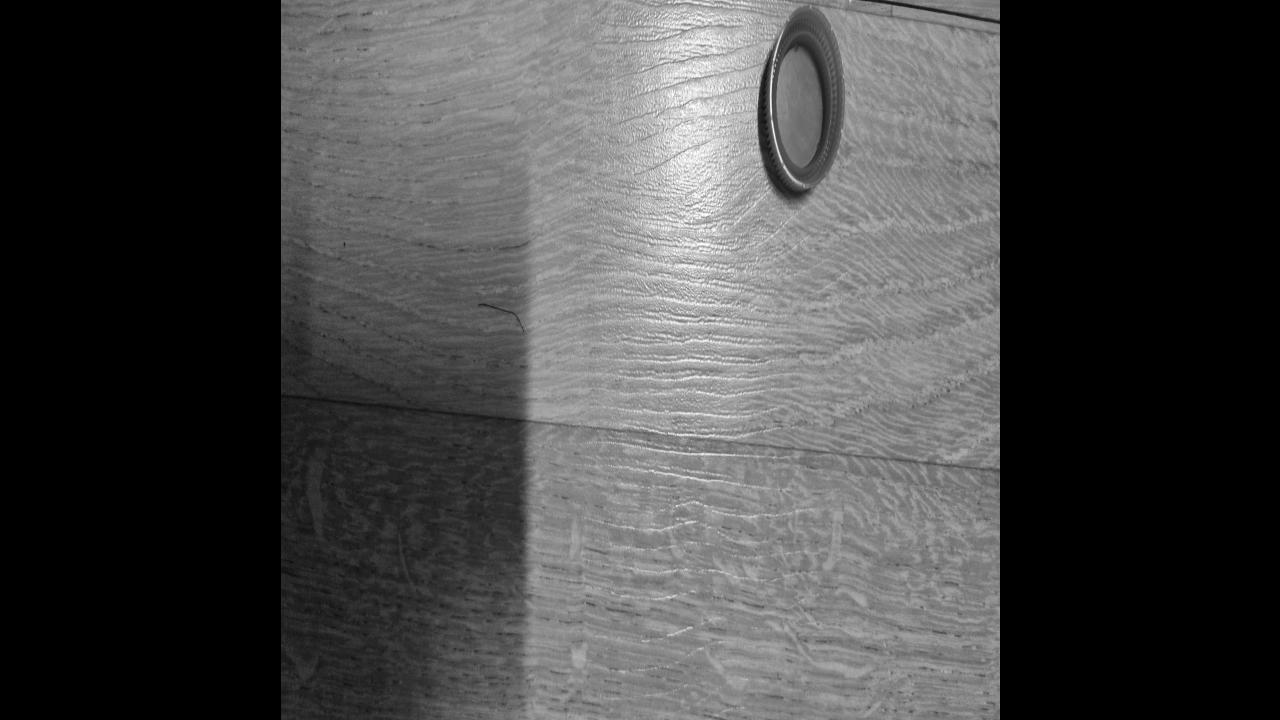bottle_cap: (768, 19, 842, 189)
